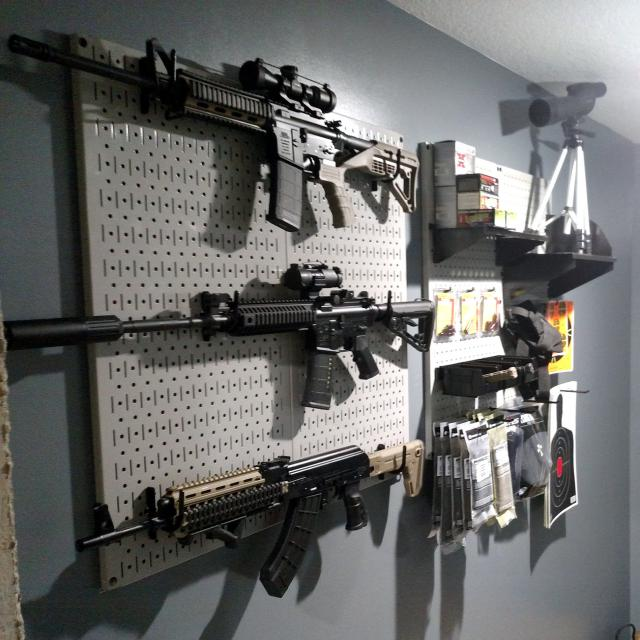Rifle: (8, 35, 418, 234), (14, 264, 435, 410), (86, 439, 421, 598)
